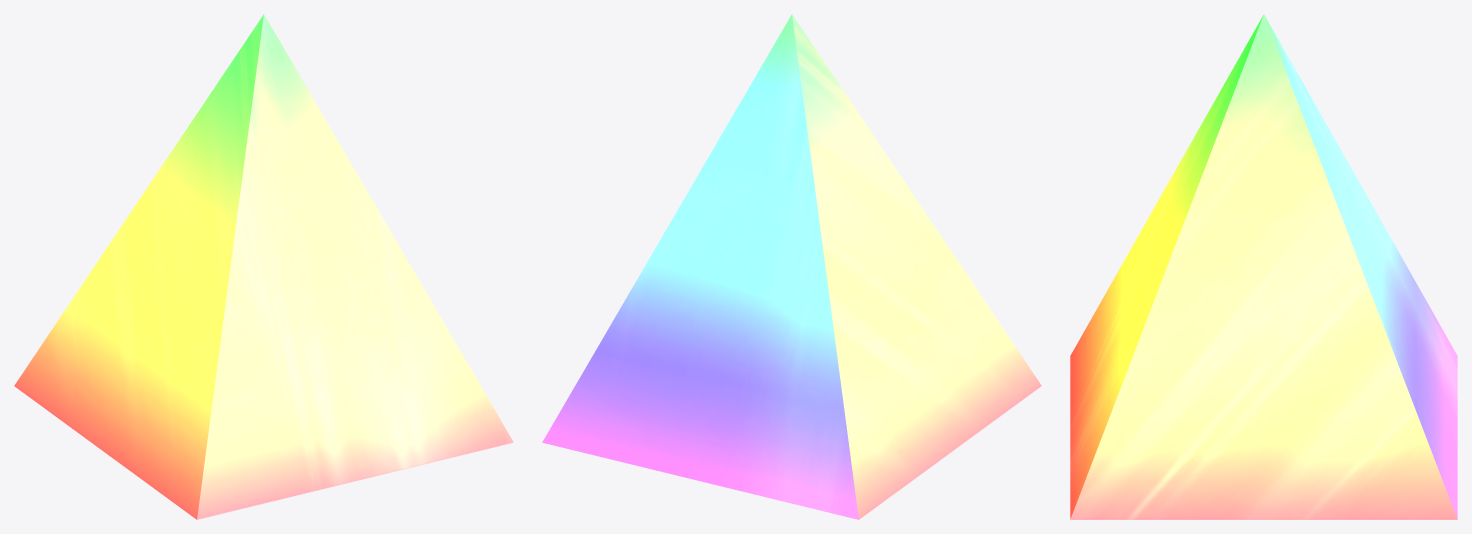
The model's file is prism.glb.
The picture shows the model from 3 angles, left to right: view 1: azimuth 30°, elevation 25°; view 2: azimuth 150°, elevation 25°; view 3: azimuth 270°, elevation 25°; orthographic projection. The views are drawn at different scales.
Visible parts, largest first — view 1: Object_2; view 2: Object_2; view 3: Object_2.
Part boxes in pixels (x1,y1,x2,y2): Object_2: (14,14,513,519); Object_2: (542,14,1041,519); Object_2: (1070,14,1457,519).
Bounding box in the file's own units: 2.39 × 2.88 × 2.39.
Materials: 1 (1 with a texture image).
